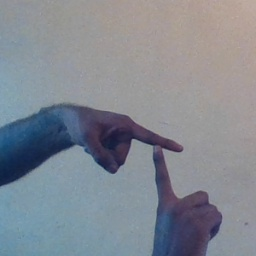T: (112, 111, 210, 218)
